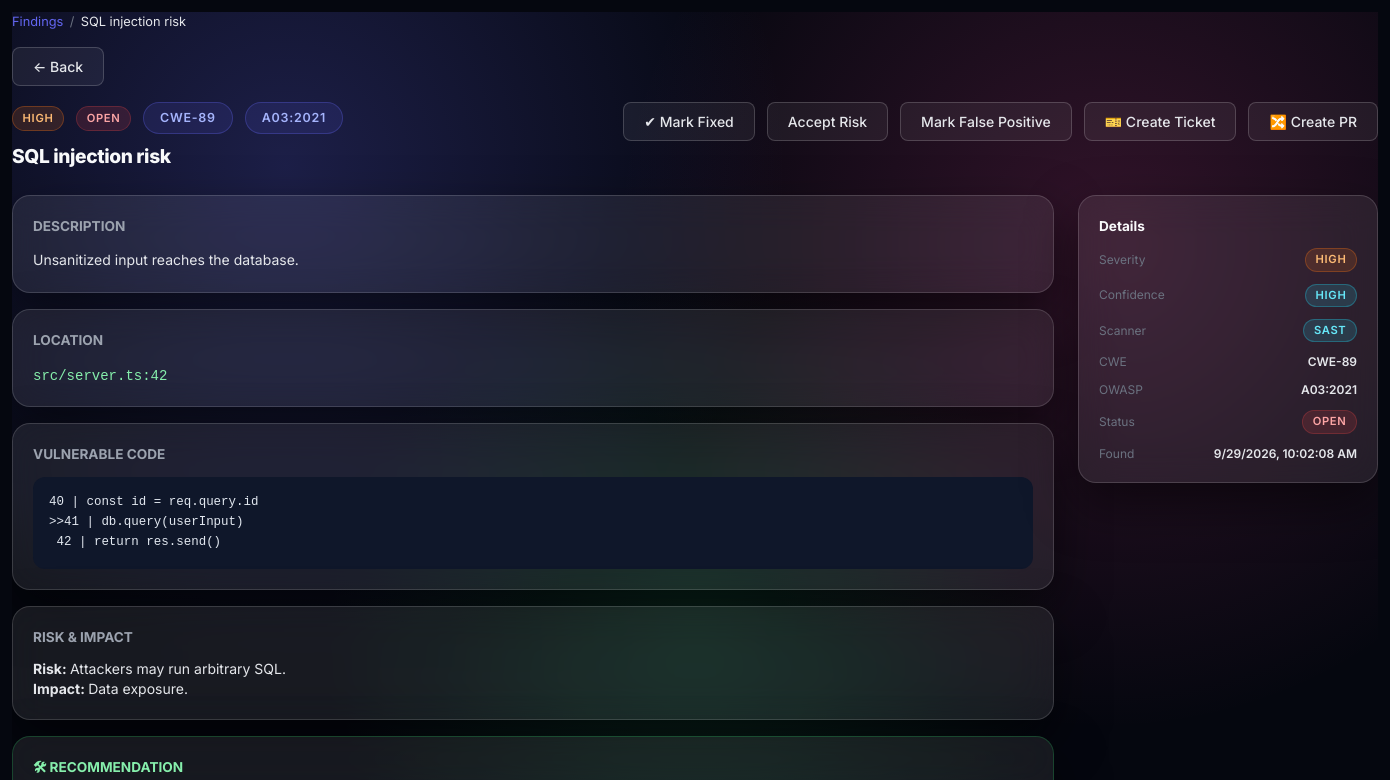
Test: FindingDetailPage › creates a PR and switches to the view PR link
Click the button "🔀 Create PR": (1313, 122) [1248,102,1378,141]
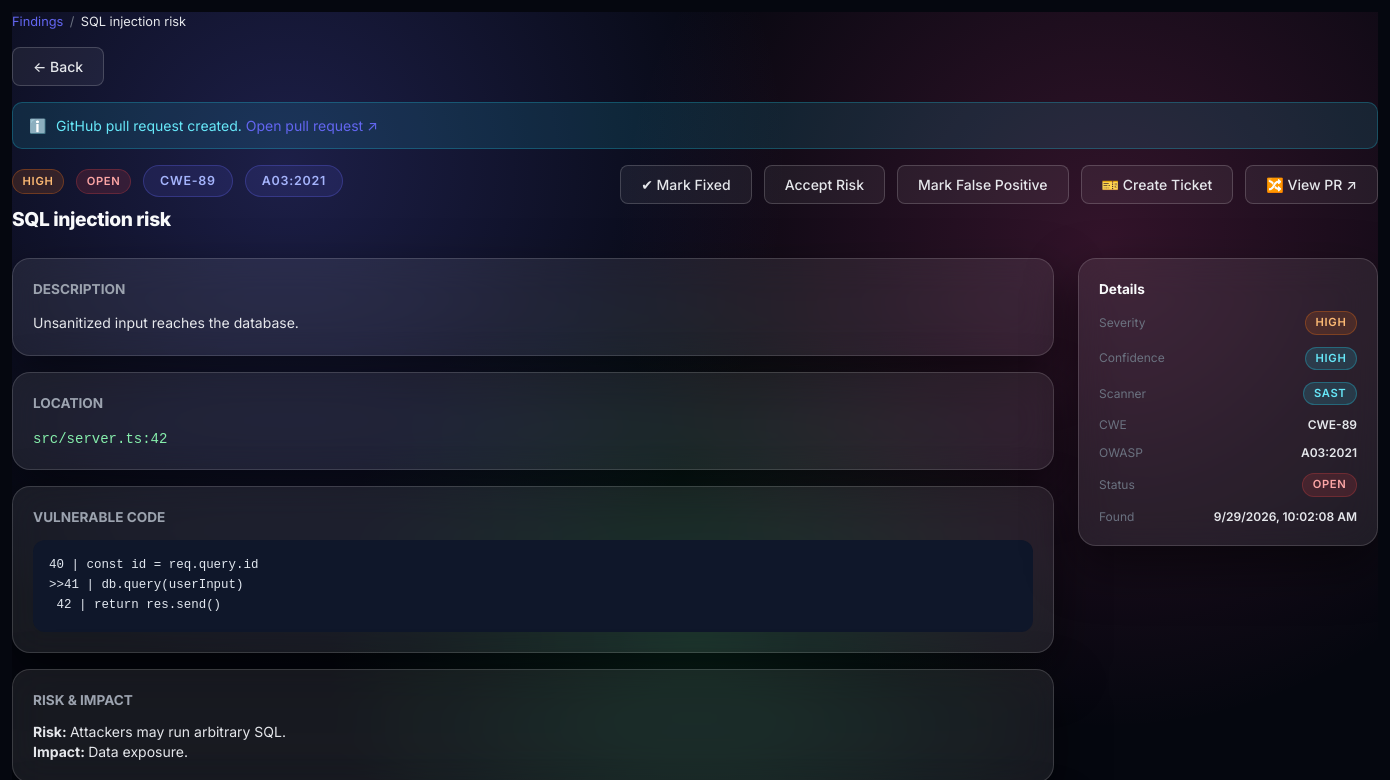
Now the text "GitHub pull request created. Open pull request ↗" is shown, box [56,115,378,136]
